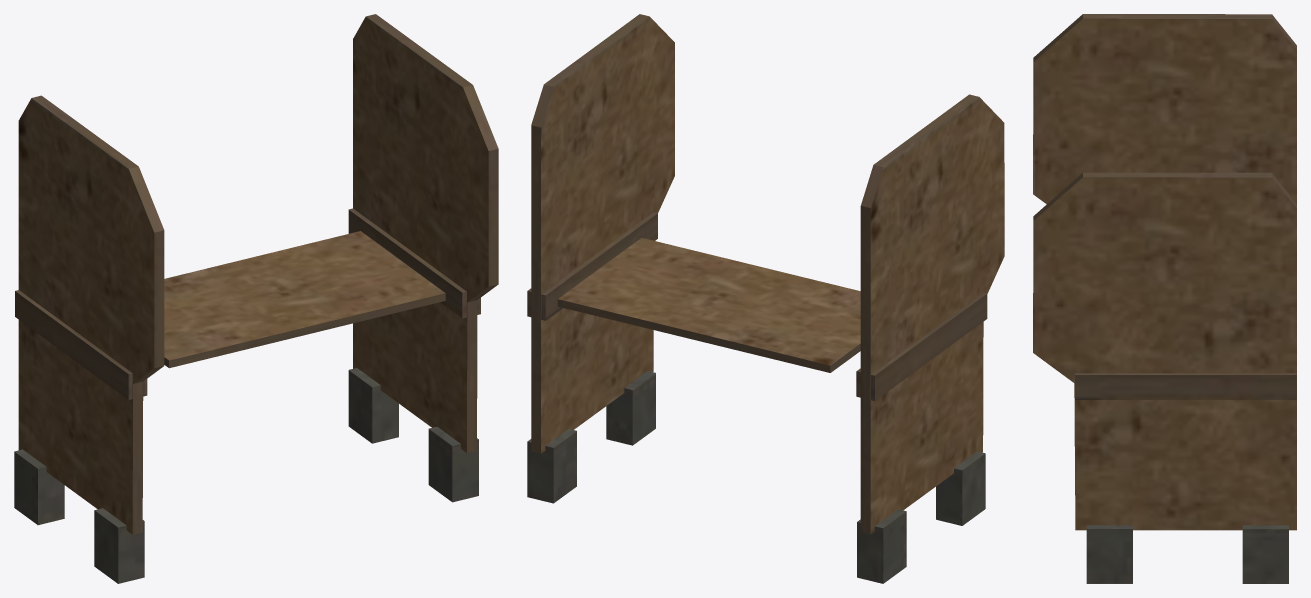
Rendered from range-booth.lod1.glb.
3 views of the same model, side by side, from view 1: azimuth 30°, elevation 25°; view 2: azimuth 150°, elevation 25°; view 3: azimuth 270°, elevation 25° (orthographic). The views are drawn at different scales.
Parts seen in each view (by area): view 1: Object_20; view 2: Object_20; view 3: Object_20.
Part boxes in pixels (bbox=[...]): Object_20: bbox=[14, 14, 498, 583]; Object_20: bbox=[527, 14, 1004, 583]; Object_20: bbox=[1033, 14, 1296, 583].
Bounding box in the file's own units: 1.05 × 1.15 × 0.6826.
Materials: 1 (1 with a texture image).
